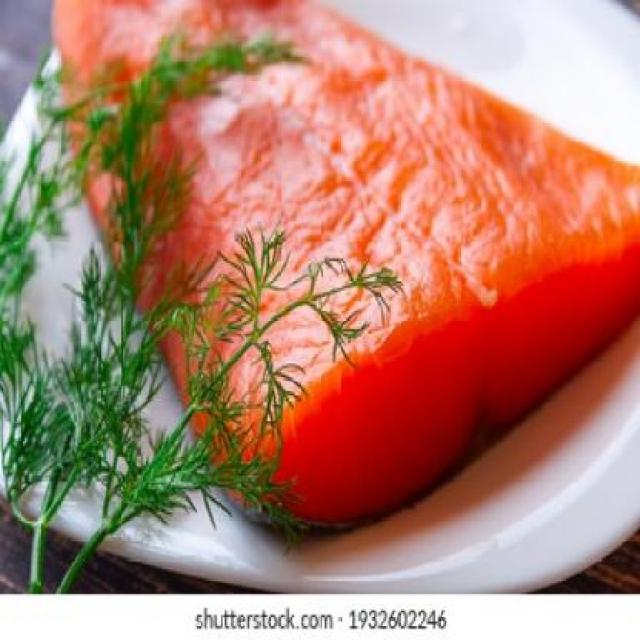salmon: (30, 3, 638, 559)
